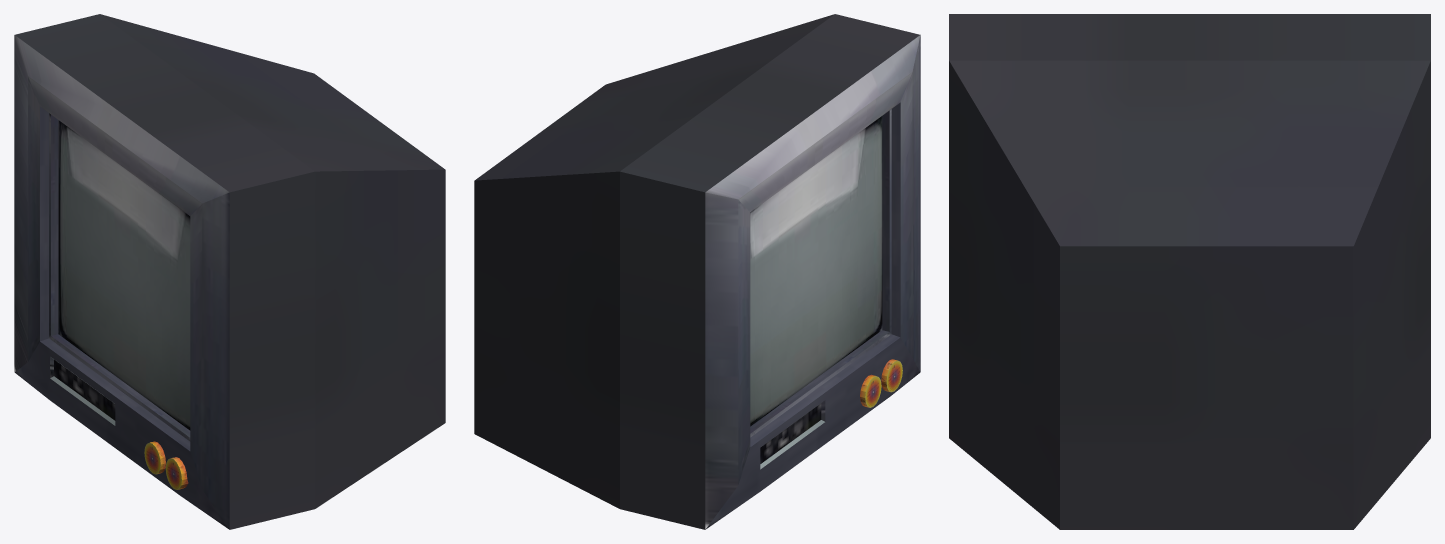
The model's file is msh_TV.fbx.
The picture shows the model from 3 angles, left to right: view 1: azimuth 30°, elevation 25°; view 2: azimuth 150°, elevation 25°; view 3: azimuth 270°, elevation 25°; orthographic projection. The views are drawn at different scales.
Parts seen in each view (by area): view 1: msh_TV; view 2: msh_TV; view 3: msh_TV.
Part boxes in pixels (x1,y1,x2,y2): msh_TV: (14, 14, 445, 529); msh_TV: (474, 14, 920, 529); msh_TV: (949, 14, 1430, 529).
Bounding box in the file's own units: 182 × 210 × 242.
